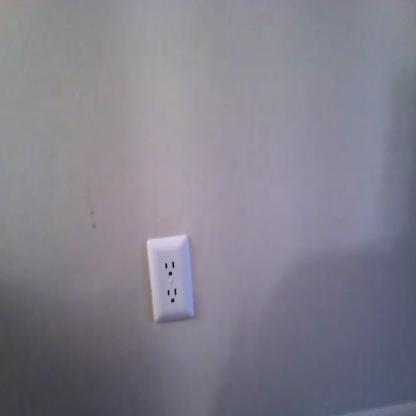OUTLET: (147, 236, 194, 320)
